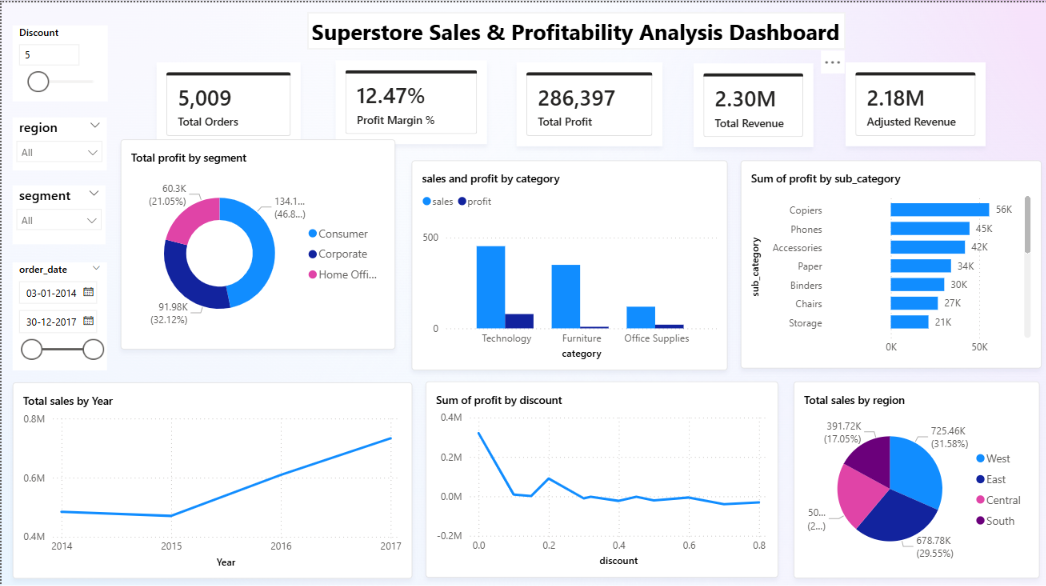

What the dashboard file says about the page in this screenshot:
{"tool":"powerbi","page":{"name":"Page 1","canvas":[1280,720],"ordinal":0},"visuals":[{"type":"cardVisual","fields":{"Data":["superstore.Total Orders Exact"]},"box":[189.5,73.4,176.1,102.7],"z":0},{"type":"cardVisual","fields":{"Data":["superstore.Total Profit Exact"]},"box":[629.8,73.4,178.5,102.7],"z":1000},{"type":"cardVisual","fields":{"Data":["superstore.Total Sales"]},"box":[846.2,74.6,146.7,102.7],"z":2000},{"type":"cardVisual","fields":{"Data":["superstore.Profit Margin %"]},"box":[408.4,70.9,185.9,102.7],"z":3000},{"type":"clusteredColumnChart","fields":{"Category":["superstore.category"],"Y":["Avg(superstore.sales)","Avg(superstore.profit)"]},"box":[501.4,193.2,386.4,256.8],"z":4000},{"type":"lineChart","fields":{"Category":["superstore.order_date.Variation.Date Hierarchy.Year"],"Y":["Sum(superstore.sales)"]},"box":[13.7,465.2,488.5,240.1],"z":5000},{"type":"clusteredBarChart","fields":{"Category":["superstore.sub_category"],"Y":["Sum(superstore.profit)"]},"box":[903.7,193.2,368.1,254.3],"z":6000},{"type":"lineChart","fields":{"Category":["superstore.discount"],"Y":["Sum(superstore.profit)"]},"box":[518.7,463.8,430.9,240.1],"z":7000},{"type":"pieChart","fields":{"Category":["superstore.region"],"Y":["Sum(superstore.sales)"]},"box":[968.5,463.5,300.8,240.9],"z":8000},{"type":"slicer","fields":{"Values":["superstore.order_date"]},"box":[13.5,317.9,114.9,132.1],"z":9000},{"type":"slicer","fields":{"Values":["superstore.region"]},"box":[13.5,140.6,114.9,64.8],"z":10000},{"type":"slicer","fields":{"Values":["superstore.segment"]},"box":[13.5,223.8,113.7,72.1],"z":11000},{"type":"donutChart","fields":{"Category":["superstore.segment"],"Y":["Sum(superstore.profit)"]},"box":[145.5,167.5,336.3,256.8],"z":12000},{"type":"slicer","fields":{"Values":["Scenario Discount.Scenario Discount"]},"box":[13.5,28.1,116.2,91.7],"z":13000},{"type":"cardVisual","fields":{"Data":["Scenario Discount.Adjusted Revenue"]},"box":[1032.1,73.4,171.2,102.7],"z":13001},{"type":"textbox","box":[374.2,12.2,657.9,45.2],"z":13002}]}

Visuals, with their boxes in screenshot pixels (x1, y1, x2, y2), scaled from the page's 1280x720 canvas onto the 1046x586 screenshot:
cardVisual - superstore.Total Orders Exact: [left=155, top=60, right=299, bottom=143]
cardVisual - superstore.Total Profit Exact: [left=515, top=60, right=661, bottom=143]
cardVisual - superstore.Total Sales: [left=692, top=61, right=811, bottom=144]
cardVisual - superstore.Profit Margin %: [left=334, top=58, right=486, bottom=141]
clusteredColumnChart - superstore.category x Avg(superstore.sales): [left=410, top=157, right=725, bottom=366]
lineChart - superstore.order_date.Variation.Date Hierarchy.Year x Sum(superstore.sales): [left=11, top=379, right=410, bottom=574]
clusteredBarChart - superstore.sub_category x Sum(superstore.profit): [left=738, top=157, right=1039, bottom=364]
lineChart - superstore.discount x Sum(superstore.profit): [left=424, top=377, right=776, bottom=573]
pieChart - superstore.region x Sum(superstore.sales): [left=791, top=377, right=1037, bottom=573]
slicer - superstore.order_date: [left=11, top=259, right=105, bottom=366]
slicer - superstore.region: [left=11, top=114, right=105, bottom=167]
slicer - superstore.segment: [left=11, top=182, right=104, bottom=241]
donutChart - superstore.segment x Sum(superstore.profit): [left=119, top=136, right=394, bottom=345]
slicer - Scenario Discount.Scenario Discount: [left=11, top=23, right=106, bottom=98]
cardVisual - Scenario Discount.Adjusted Revenue: [left=843, top=60, right=983, bottom=143]
textbox: [left=306, top=10, right=843, bottom=47]
